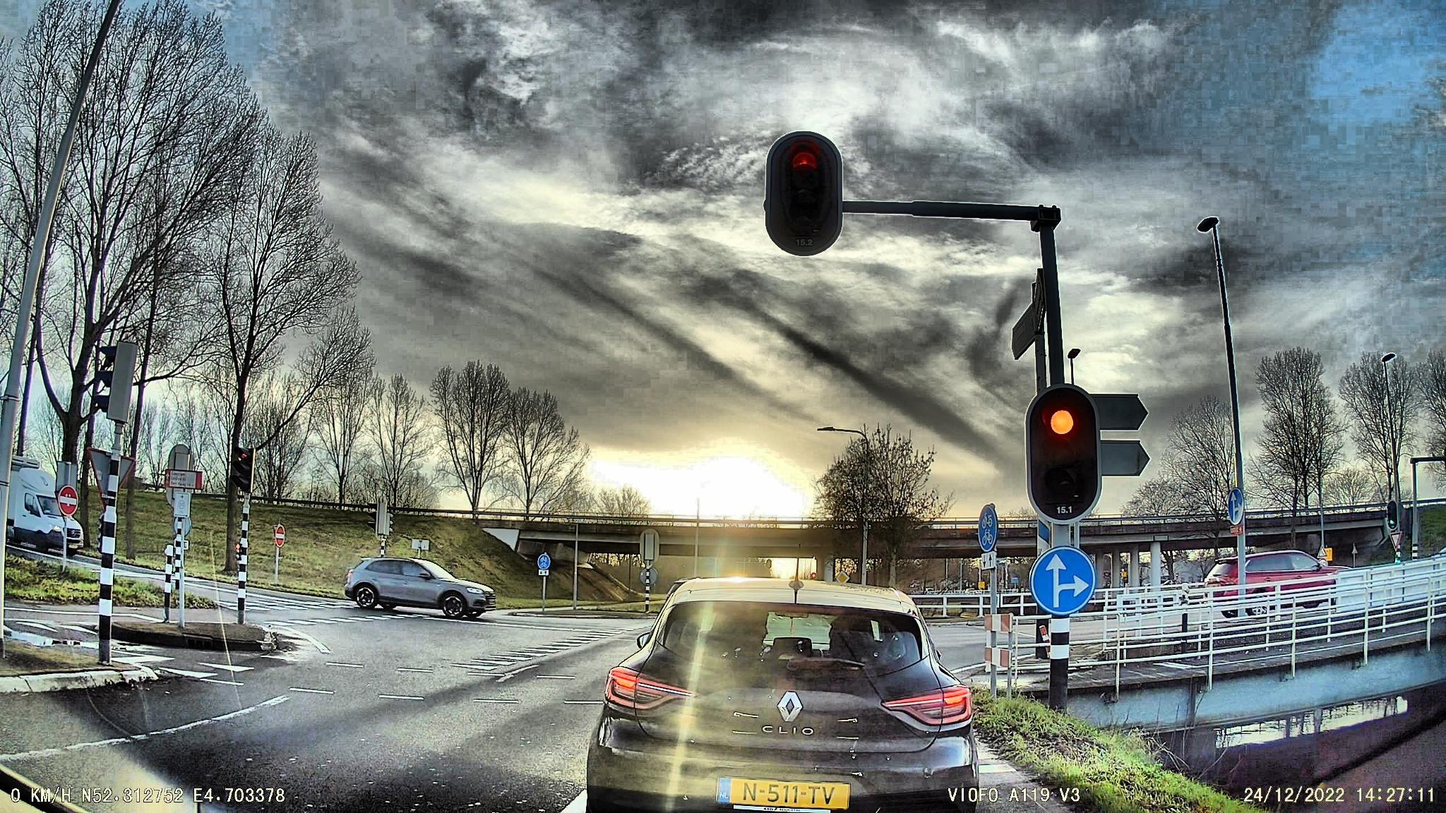Roads: (0, 576, 650, 813)
